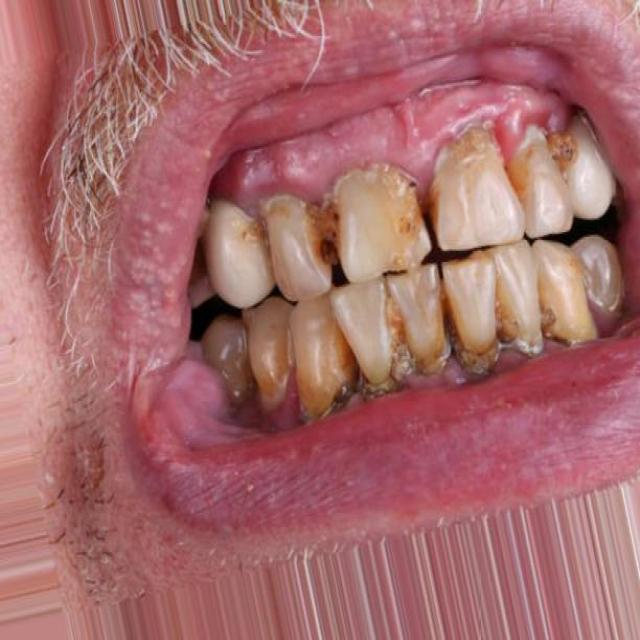caries: (300, 191, 356, 279), (314, 362, 368, 416)
